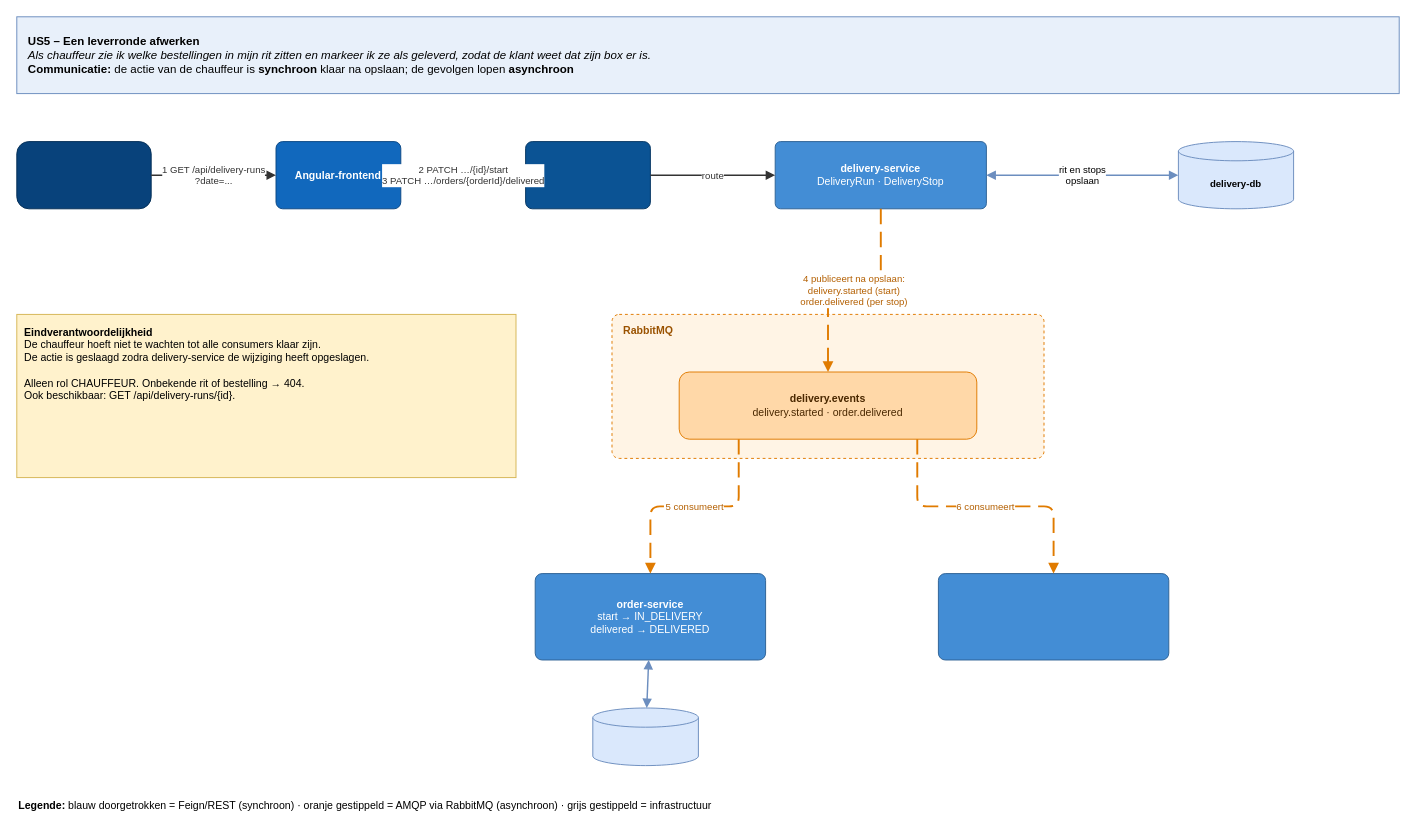
The diagram is 1416 pixels wide and 834 high, and some of its shapes have lost their labels. Each missing label, with the box of its shape:
Chauffeur [CHAUFFEUR]: (16, 141, 151, 209)
gateway :8080: (525, 141, 650, 209)
notification-service verwittigt de klant (log): (937, 573, 1169, 660)
order-db: (592, 707, 698, 766)
